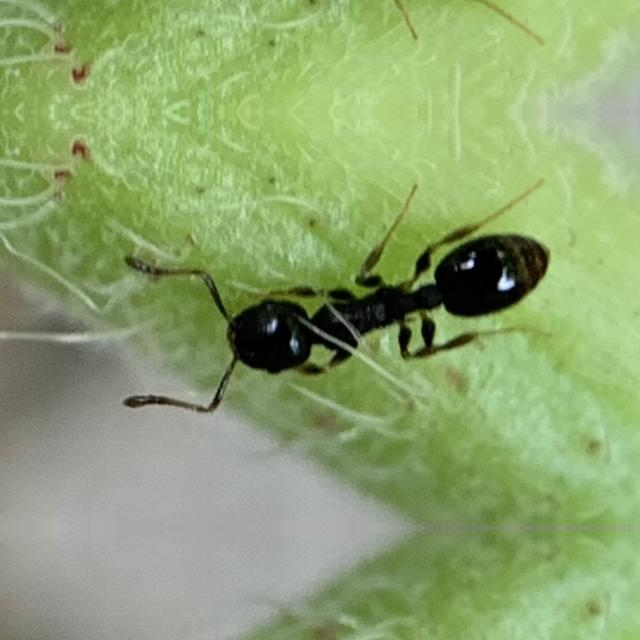Temnothorax: (168, 224, 580, 400)
